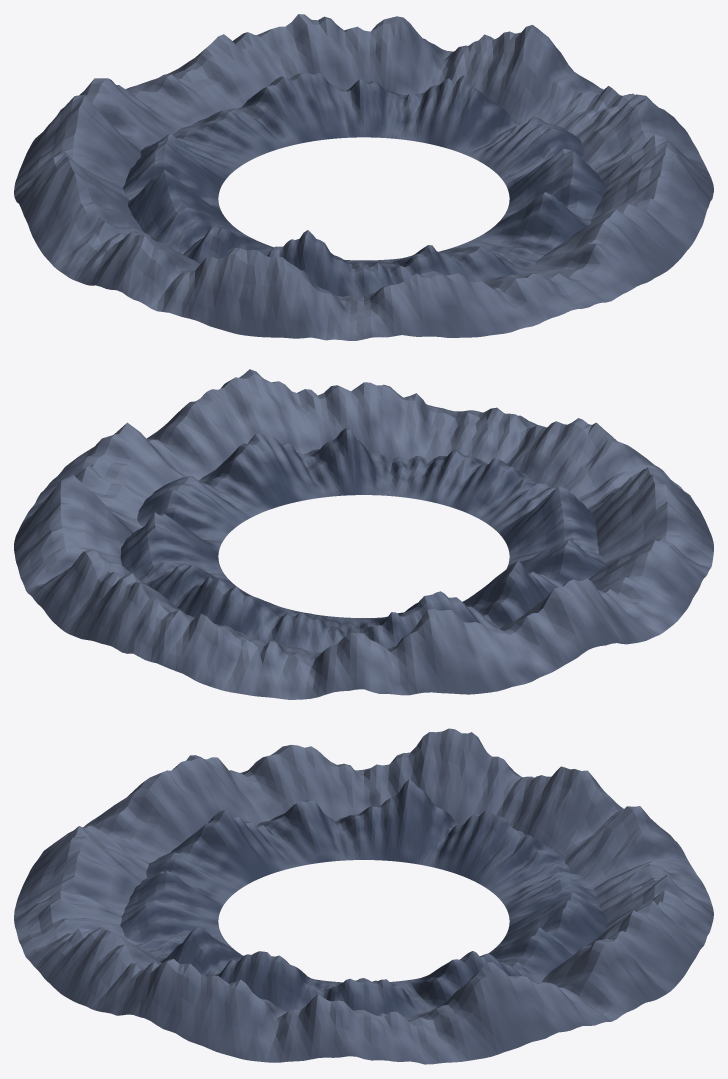
File: alpine-cirque.glb
3 renders of one model, top to bottom at view 1: azimuth 30°, elevation 25°; view 2: azimuth 150°, elevation 25°; view 3: azimuth 270°, elevation 25°, orthographic.
Visible parts, largest first — view 1: Blue distance, Windward cirque; view 2: Blue distance, Windward cirque; view 3: Blue distance, Windward cirque.
Part boxes in pixels (x1,y1,x2,y2): Blue distance: [14, 14, 713, 340]; Windward cirque: [123, 73, 605, 296]; Blue distance: [14, 369, 713, 699]; Windward cirque: [120, 428, 605, 652]; Blue distance: [14, 728, 713, 1064]; Windward cirque: [120, 779, 607, 1016].
Bounding box in the file's own units: 202 × 22.88 × 202.
